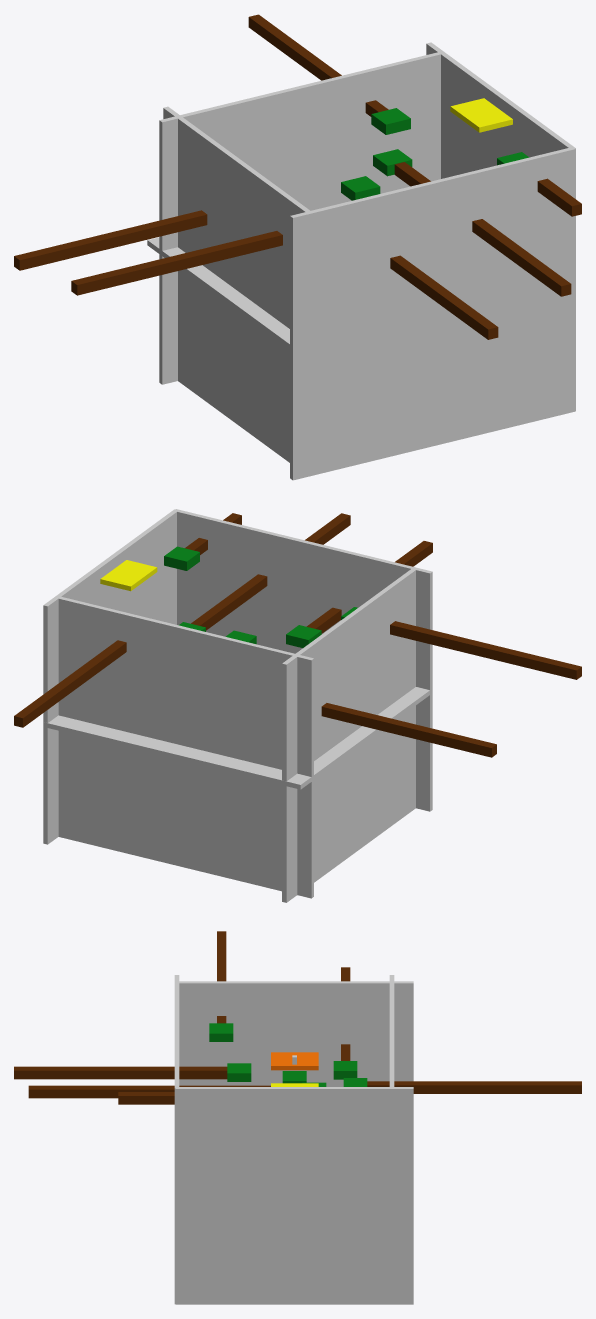
The model's file is Level_Concept_5.fbx.
3 views of the same model, one above another, from view 1: azimuth 30°, elevation 25°; view 2: azimuth 150°, elevation 25°; view 3: azimuth 270°, elevation 25° (orthographic). The views are drawn at different scales.
Parts seen in each view (by area): view 1: Cube__4_, Cube__1_, Cube__2_, Cube__3_, Root_5, Root_3, Root_2, Cube, Root_4, Root_1, Finish, Root_6 (+3 smaller); view 2: Cube__1_, Cube__2_, Cube__4_, Cube__3_, Cube, Root_5, Root_3, Root_1, Root_2, Finish, Root_4, Platform_6 (+1 smaller); view 3: Cube__3_, Cube__2_, Root_4, Root_1, Root_2, Cube__4_, Start, Root_6, Cube__1_, Root_5.
Part boxes in pixels (box(x1,y1,x2,y2)): Cube__4_: box(290, 148, 575, 480); Cube__1_: box(159, 51, 444, 384); Cube__2_: box(163, 106, 311, 462); Cube__3_: box(426, 42, 575, 410); Root_5: box(71, 231, 282, 295); Root_3: box(14, 210, 207, 270); Root_2: box(394, 162, 571, 296); Cube: box(147, 237, 292, 350); Root_4: box(390, 255, 498, 339); Root_1: box(248, 14, 388, 116); Finish: box(450, 98, 512, 132); Root_6: box(537, 178, 581, 216); Cube__1_: box(55, 596, 313, 898); Cube__2_: box(282, 568, 417, 902); Cube__4_: box(176, 509, 432, 811); Cube__3_: box(43, 509, 178, 844); Cube: box(44, 687, 431, 789); Root_5: box(390, 621, 581, 679); Root_3: box(321, 703, 496, 757); Root_1: box(14, 640, 126, 727); Root_2: box(191, 513, 350, 630); Finish: box(100, 560, 157, 591); Root_4: box(306, 541, 432, 633); Platform_6: box(164, 546, 199, 570); Cube__3_: box(175, 1087, 413, 1304); Cube__2_: box(175, 981, 413, 1086); Root_4: box(14, 1066, 227, 1079); Root_1: box(367, 1081, 581, 1093); Root_2: box(28, 1085, 270, 1098); Cube__4_: box(174, 975, 179, 1304); Start: box(271, 1052, 318, 1070); Root_6: box(118, 1092, 174, 1104); Cube__1_: box(389, 975, 394, 1088); Root_5: box(217, 931, 226, 1023).
Bounding box in the file's own units: 9446 × 5000 × 11931.
